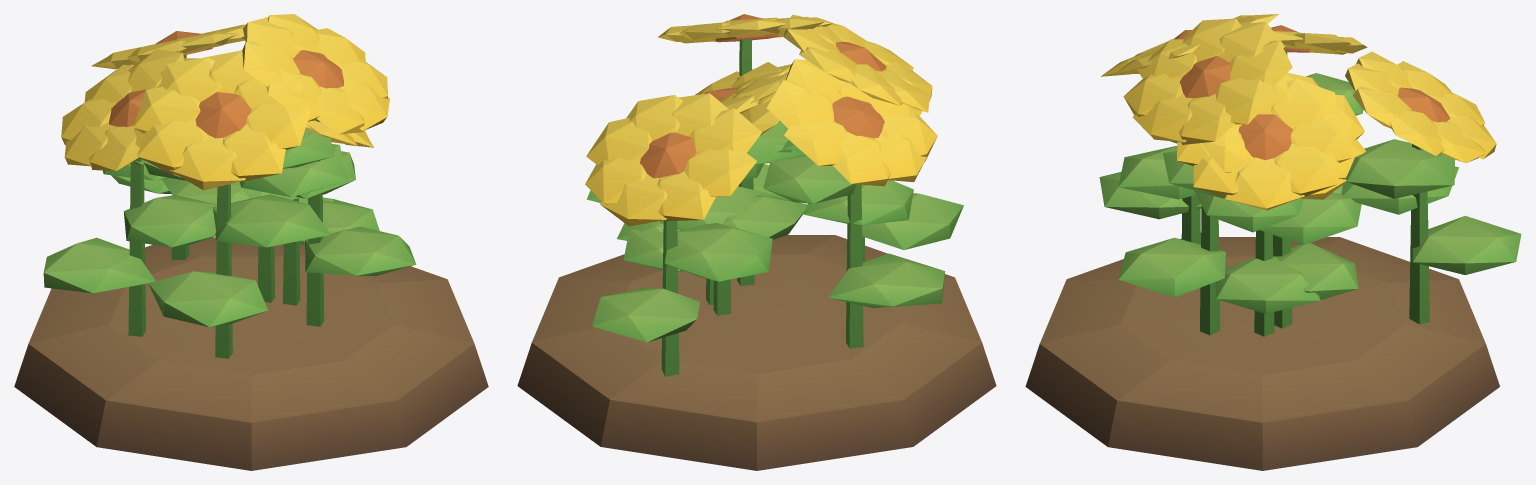
File: res_herb_sunleaf.glb
The picture shows the model from 3 angles, left to right: view 1: azimuth 30°, elevation 25°; view 2: azimuth 150°, elevation 25°; view 3: azimuth 270°, elevation 25°; orthographic projection.
Parts seen in each view (by area): view 1: res_herb_sunleaf; view 2: res_herb_sunleaf; view 3: res_herb_sunleaf.
Boxes of the visible parts, left/top/right/bottom form: res_herb_sunleaf: left=14, top=14, right=488, bottom=470; res_herb_sunleaf: left=517, top=14, right=996, bottom=470; res_herb_sunleaf: left=1025, top=14, right=1521, bottom=470.
Size of the model in its own units: 4.07 by 3.33 by 4.32.
Materials: 1 (1 with a texture image).
